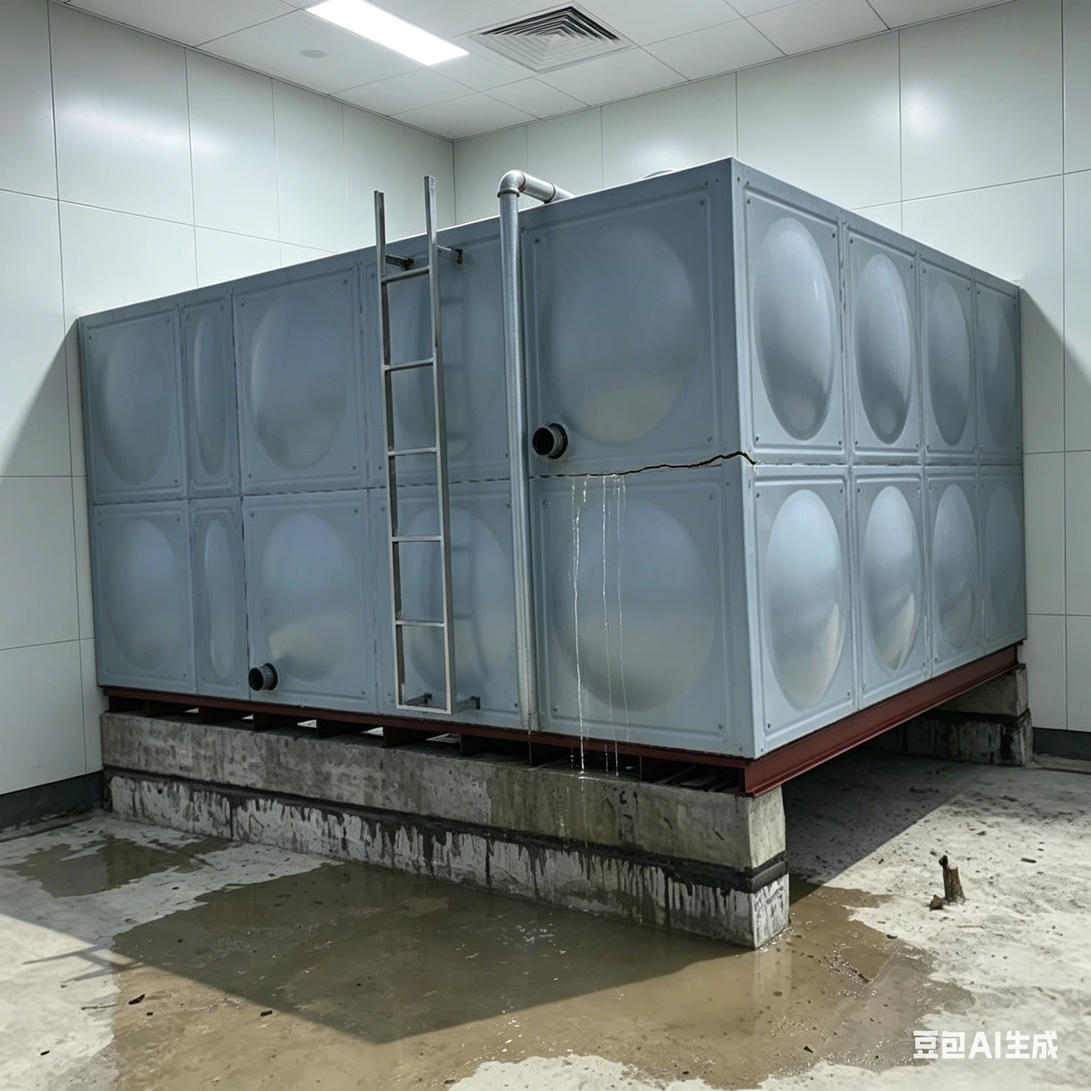Leakage: (548, 457, 656, 1059), (132, 923, 541, 1077), (668, 892, 935, 1087), (237, 844, 529, 919), (22, 830, 183, 886)
